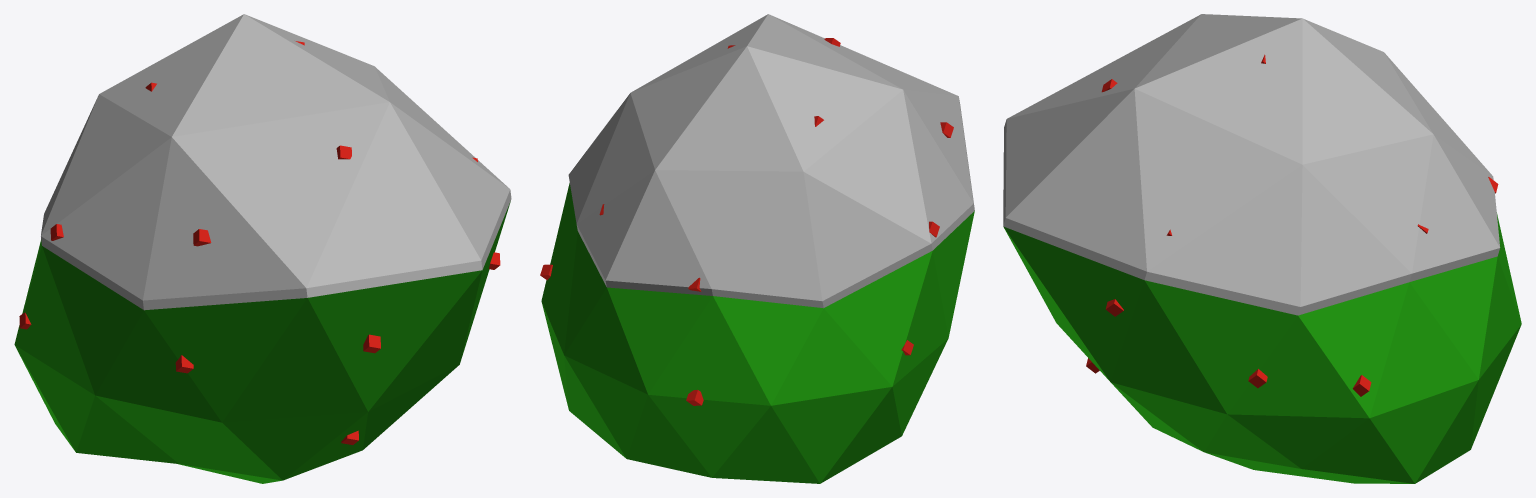
The model's file is Bush_6 Winter.fbx.
3 renders of one model, left to right at view 1: azimuth 30°, elevation 25°; view 2: azimuth 150°, elevation 25°; view 3: azimuth 270°, elevation 25°, orthographic. The views are drawn at different scales.
Parts seen in each view (by area): view 1: Bush6Winter_mesh; view 2: Bush6Winter_mesh; view 3: Bush6Winter_mesh.
Boxes of the visible parts, left/top/right/bottom form: Bush6Winter_mesh: left=14, top=14, right=511, bottom=483; Bush6Winter_mesh: left=540, top=14, right=974, bottom=483; Bush6Winter_mesh: left=1003, top=14, right=1521, bottom=483.
Bounding box in the file's own units: 172 × 180 × 192.
